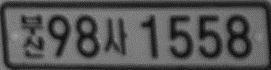1: (138, 14, 165, 58)
5: (197, 14, 223, 59), (168, 14, 193, 59)
8: (225, 14, 252, 59), (74, 14, 100, 58)
9: (46, 13, 71, 57)
부산_V: (20, 13, 45, 59)
사: (103, 17, 128, 56)
